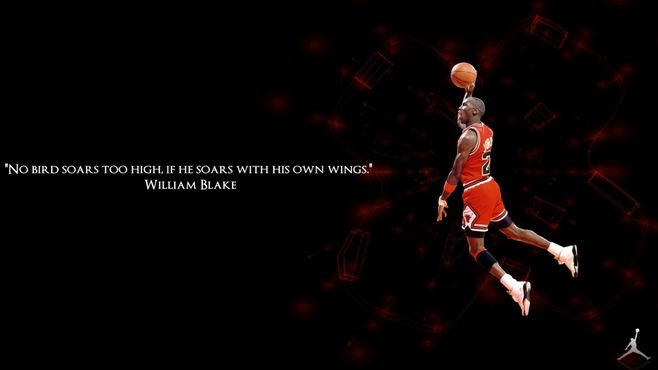ball: (450, 62, 477, 88)
